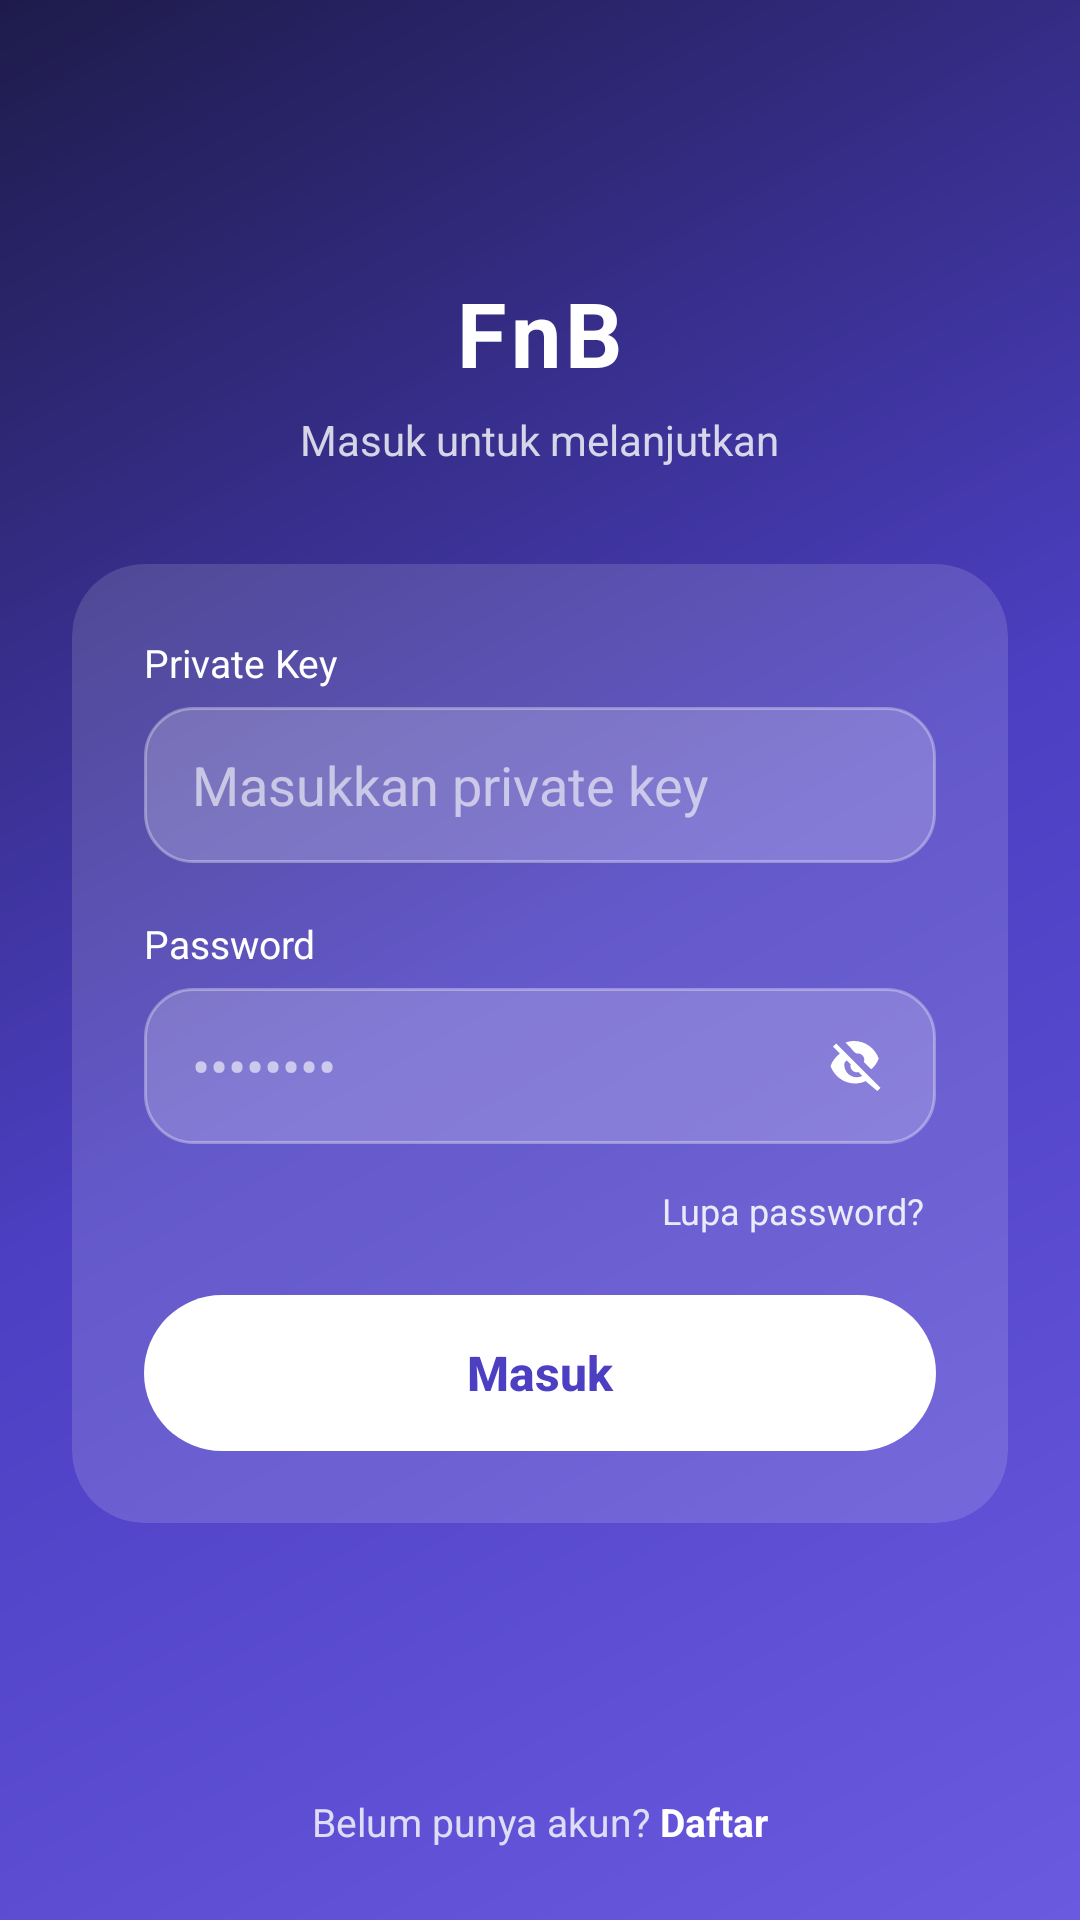

Where icons sit on this 1080 x 1920 app screen, as (x1, y1, x2, y2):
Tampilkan atau sembunyikan password: (830, 1041, 881, 1091)
